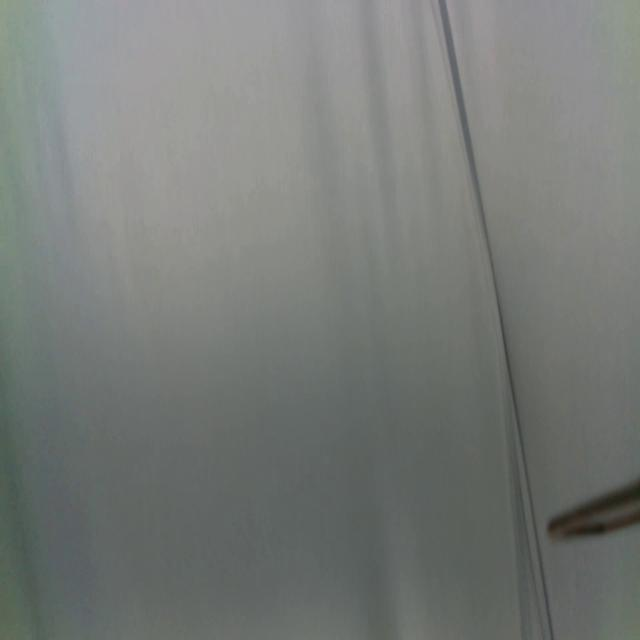crease: (438, 1, 552, 640)
